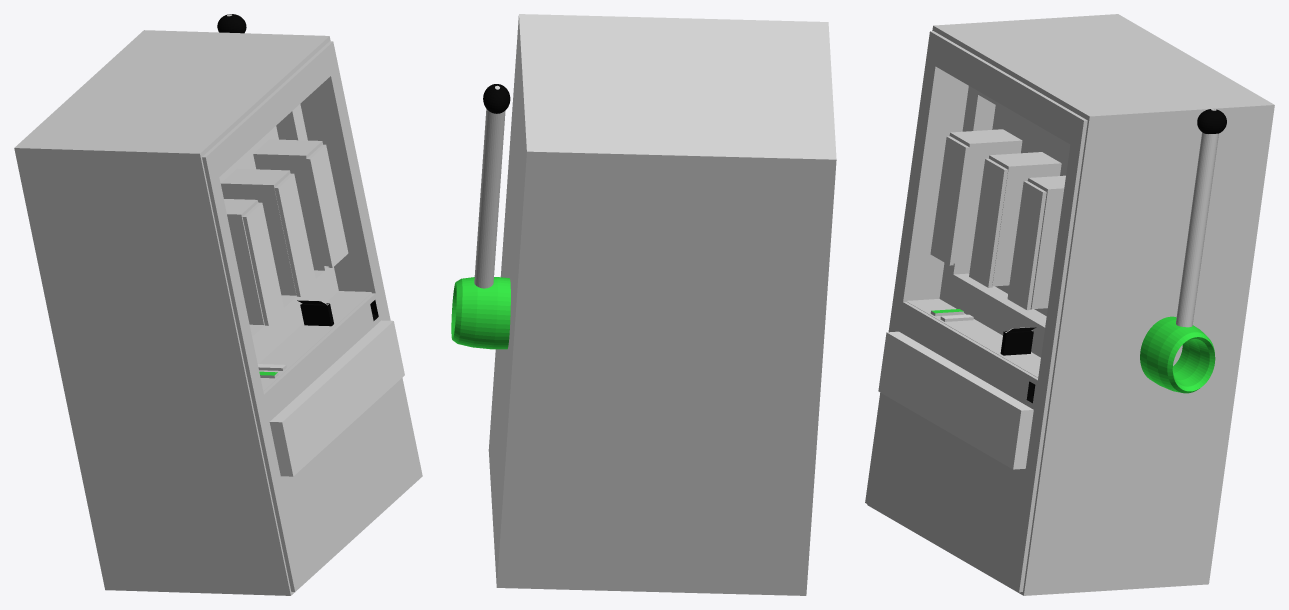
The model's file is slot3.fbx.
3 renders of one model, left to right at view 1: azimuth 30°, elevation 25°; view 2: azimuth 150°, elevation 25°; view 3: azimuth 270°, elevation 25°, orthographic. The views are drawn at different scales.
Visible parts, largest first — view 1: Sphere; view 2: Sphere; view 3: Sphere.
Boxes of the visible parts, x1,y1,x2,y2 form: Sphere: (14,14,422,595); Sphere: (451,14,836,595); Sphere: (865,14,1274,595).
Size of the model in its own units: 260 by 332 by 247.
